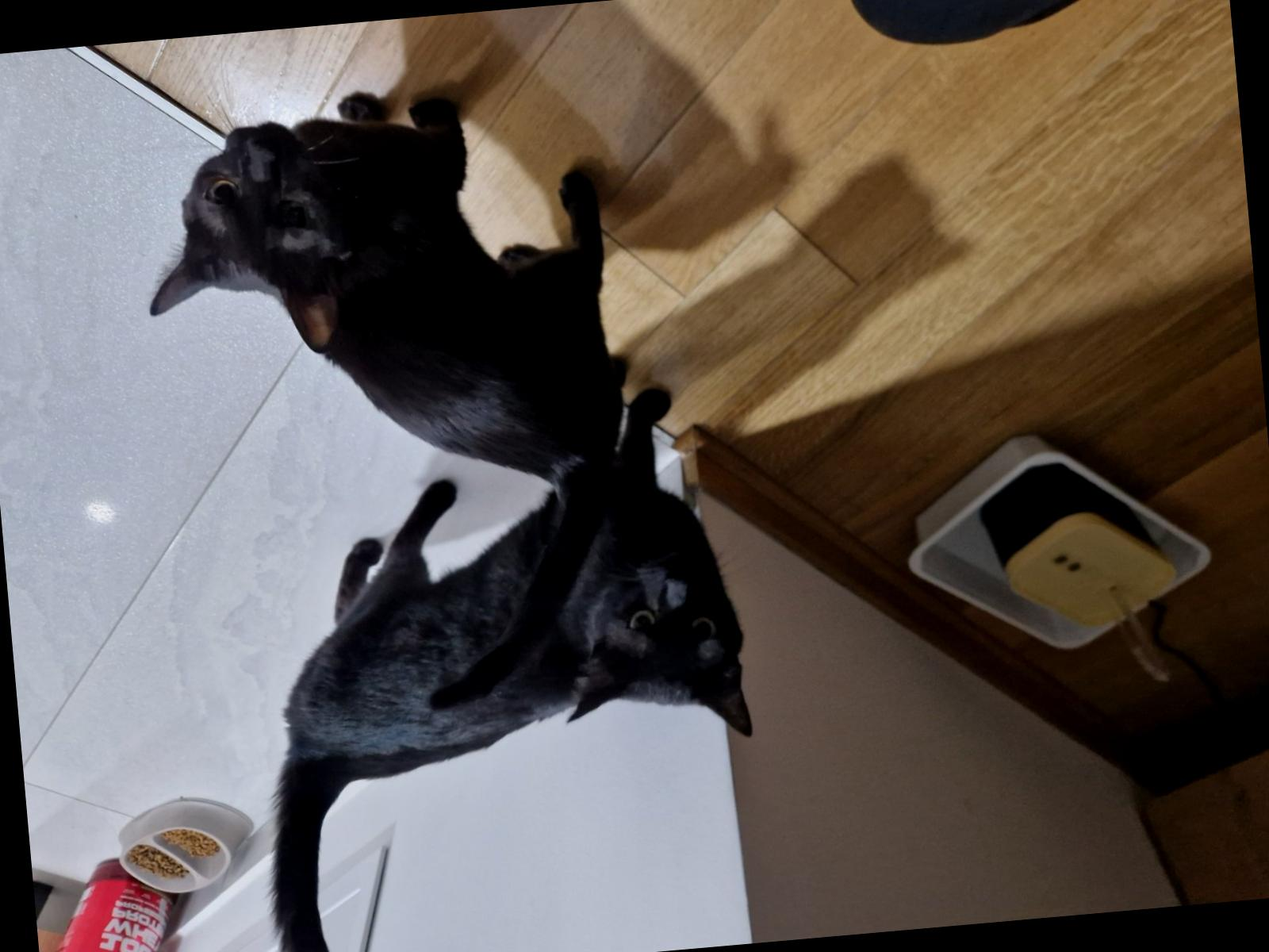macka: (137, 70, 648, 737), (225, 347, 773, 952)
